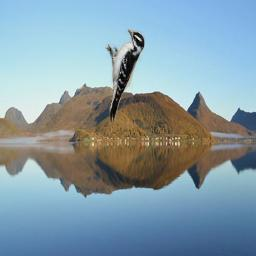Woodpecker: (105, 29, 145, 123)
